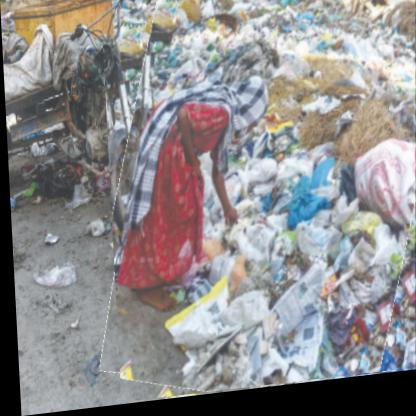Garbage: (101, 1, 416, 407)
